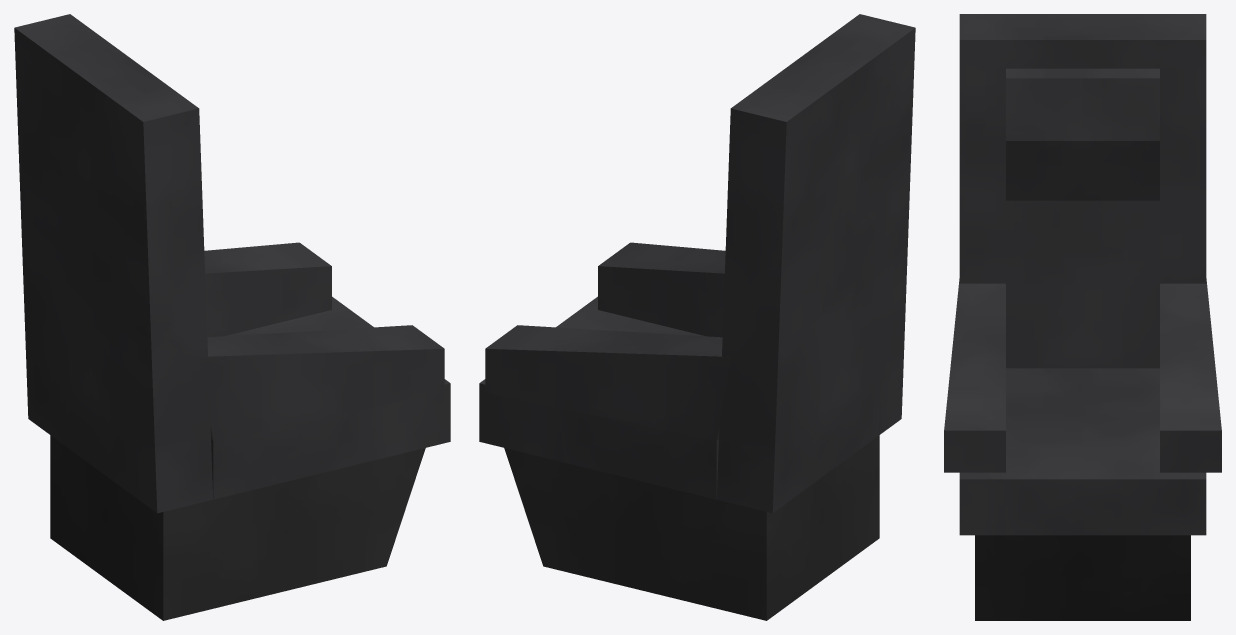
The model's file is seat_theatre.glb.
3 renders of one model, left to right at view 1: azimuth 30°, elevation 25°; view 2: azimuth 150°, elevation 25°; view 3: azimuth 270°, elevation 25°, orthographic. The views are drawn at different scales.
Visible parts, largest first — view 1: seat_theatre; view 2: seat_theatre; view 3: seat_theatre.
Part boxes in pixels (<box>): seat_theatre: <box>14,14,450,620</box>; seat_theatre: <box>479,14,915,620</box>; seat_theatre: <box>944,14,1221,620</box>.
Size of the model in its own units: 0.5406 by 0.86 by 0.4423.
2 materials, 2 textured.
